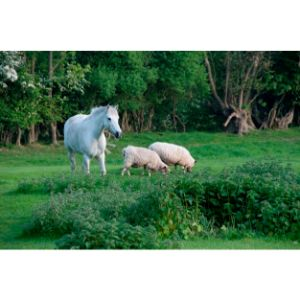horse: (62, 101, 123, 178)
sheep: (122, 142, 169, 178), (170, 144, 199, 175)
